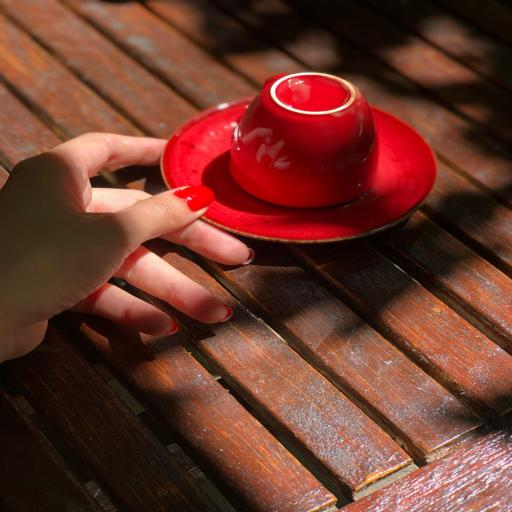phone: (231, 72, 379, 210)
